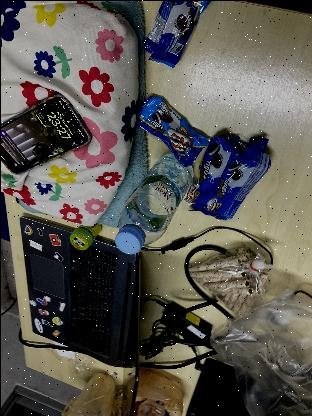Others: (208, 288, 312, 416), (191, 244, 271, 322), (216, 126, 268, 224), (137, 96, 206, 166), (140, 0, 210, 68), (190, 130, 238, 214), (124, 366, 184, 416), (60, 372, 124, 416)
Plastic Bottle: (114, 148, 196, 256)
